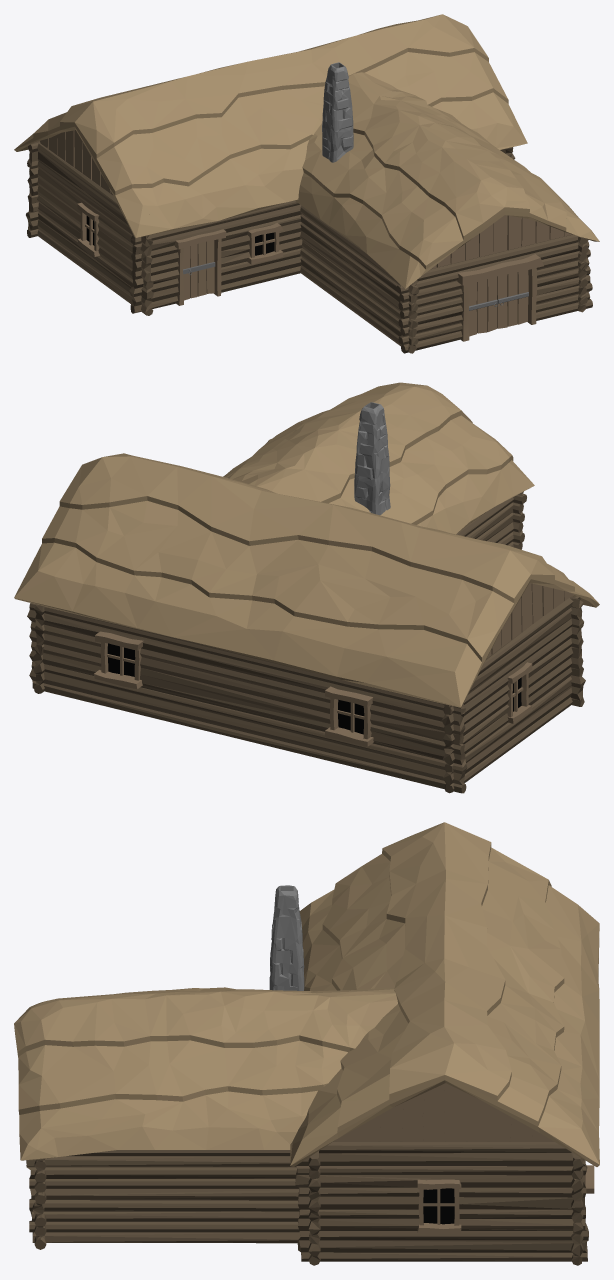
File: village_wood_house_f.FBX
3 renders of one model, top to bottom at view 1: azimuth 30°, elevation 25°; view 2: azimuth 150°, elevation 25°; view 3: azimuth 270°, elevation 25°, orthographic. The views are drawn at different scales.
Parts seen in each view (by area): view 1: village_wood_house_f; view 2: village_wood_house_f; view 3: village_wood_house_f.
Part boxes in pixels (x1=…): village_wood_house_f: x1=14, y1=14, x2=599, y2=353; village_wood_house_f: x1=14, y1=382, x2=599, y2=793; village_wood_house_f: x1=14, y1=822, x2=599, y2=1265.
Bounding box in the file's own units: 12.16 × 6.17 × 12.36.
